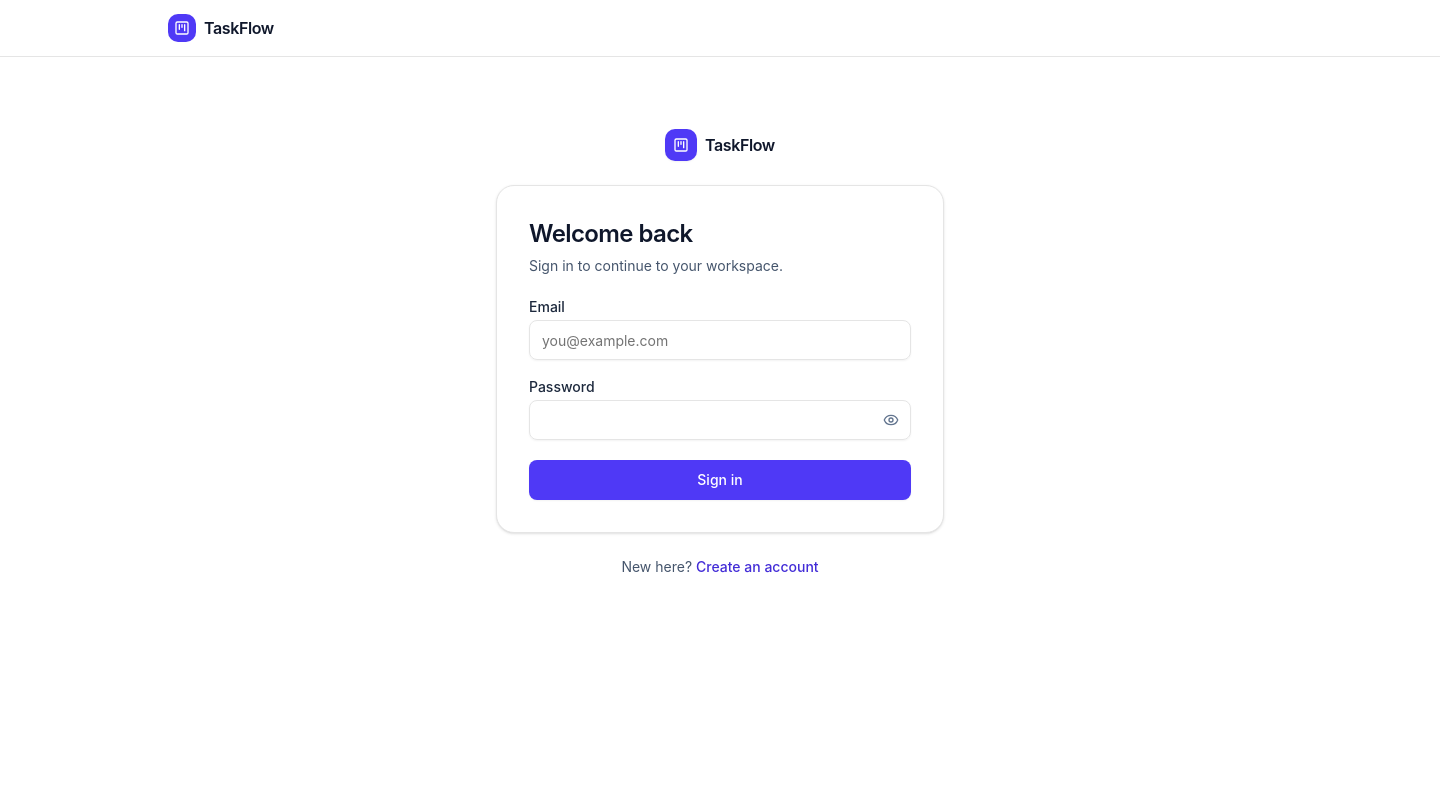
Test: login › signs in with credentials and lands on the protected page
Type "ada@example.com" into the field labelled "Email" at x=720, y=340, box [529,320,911,360]
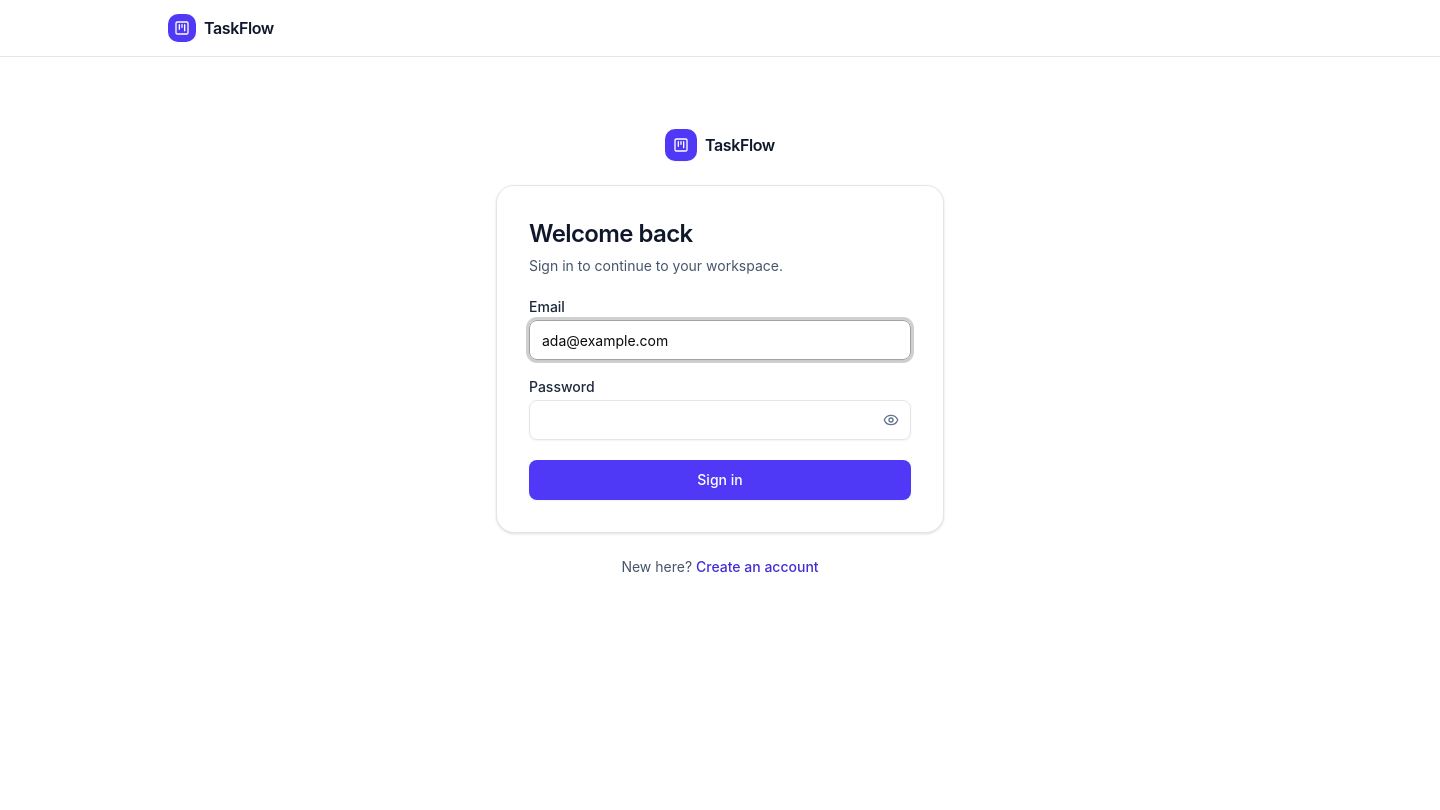
Type "secret-pass" into the password field labelled "Password" at x=720, y=420, box [529,400,911,440]
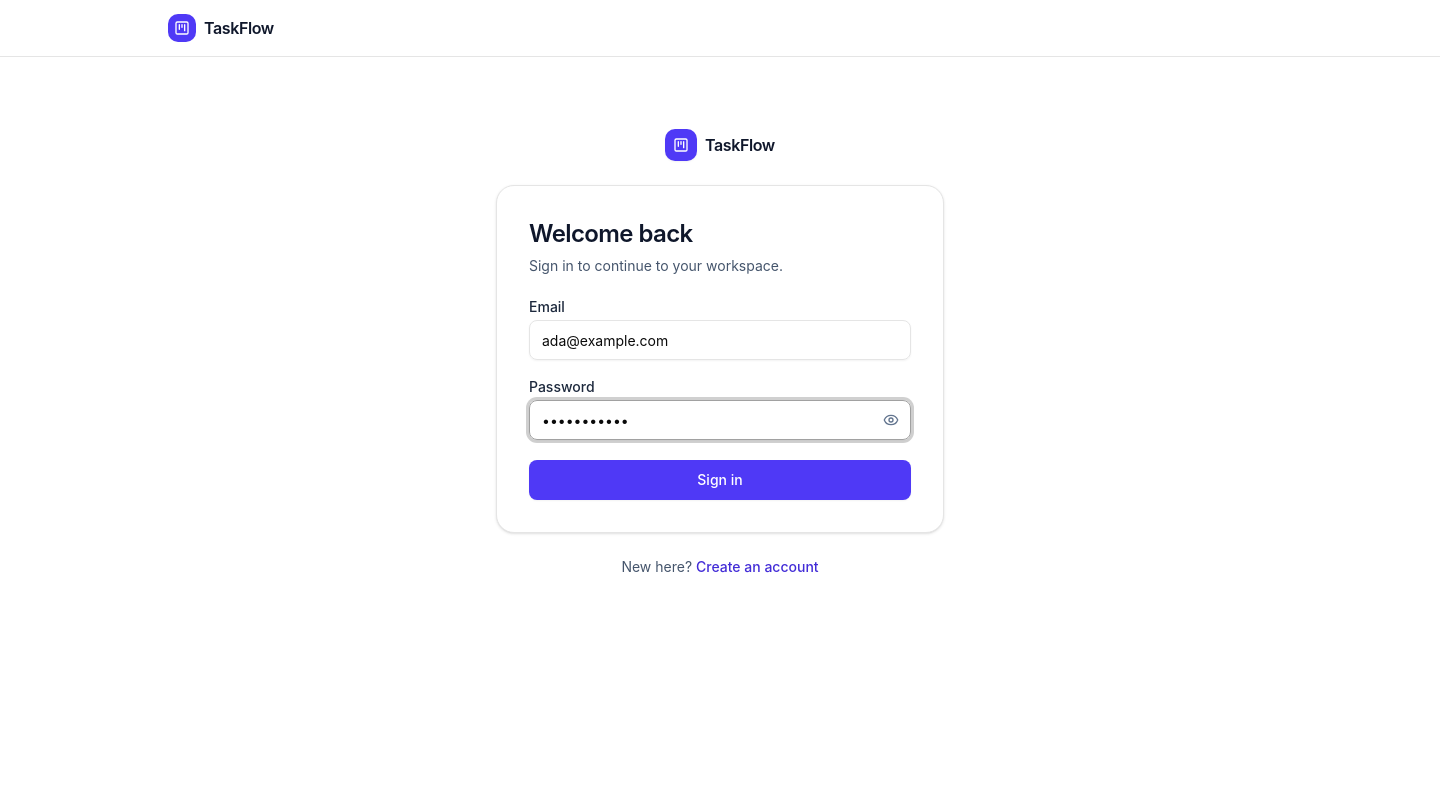
Click the button "Sign in" at x=720, y=480, box [529,460,911,500]
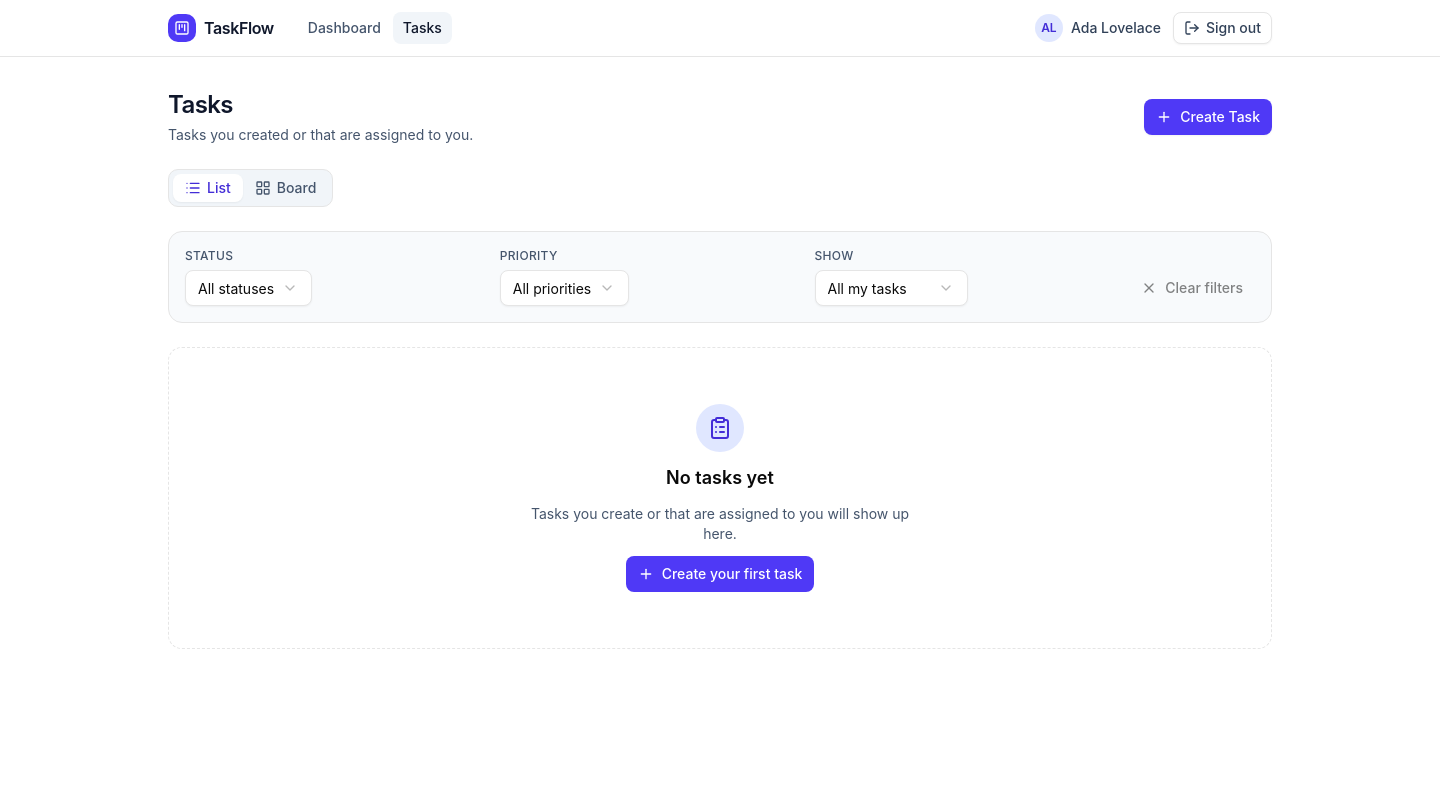
Expected: the heading "Tasks" is shown, [168,90,233,119]
